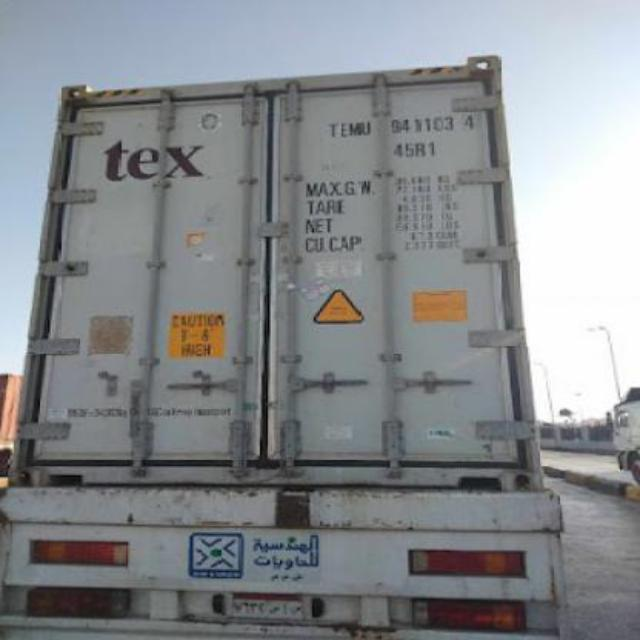0: (434, 116, 444, 132)
1: (422, 116, 432, 132), (414, 117, 422, 133)
3: (444, 114, 456, 132)
4: (464, 114, 478, 136), (404, 117, 412, 133)
9: (390, 119, 400, 135)
E: (340, 120, 348, 140)
M: (350, 122, 360, 136)
T: (324, 122, 338, 136)
U: (360, 120, 372, 138)
